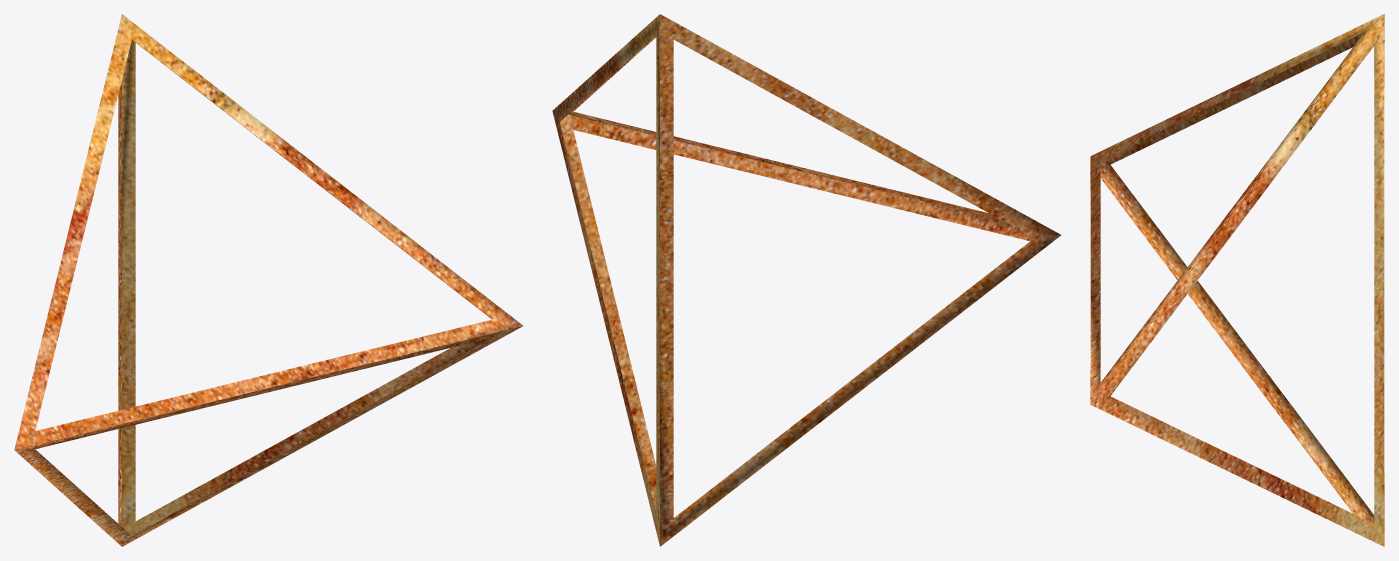
File: thin.obj
3 views of the same model, side by side, from view 1: azimuth 30°, elevation 25°; view 2: azimuth 150°, elevation 25°; view 3: azimuth 270°, elevation 25° (orthographic).
Visible parts, largest first — view 1: Cube.006; view 2: Cube.006; view 3: Cube.006.
Part boxes in pixels (box(x1,y1,x2,y2)): Cube.006: box(14, 14, 523, 546); Cube.006: box(552, 14, 1061, 546); Cube.006: box(1090, 14, 1384, 546).
Size of the model in its own units: 4 by 4 by 2.
